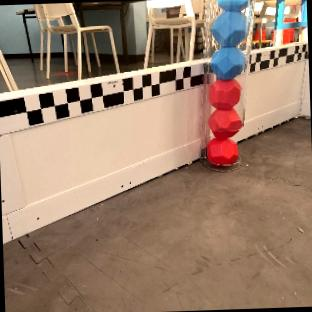V5_BLUE: (212, 0, 246, 45), (210, 46, 243, 78)
V5_RED: (209, 77, 239, 108), (209, 106, 241, 134), (208, 138, 237, 165)
